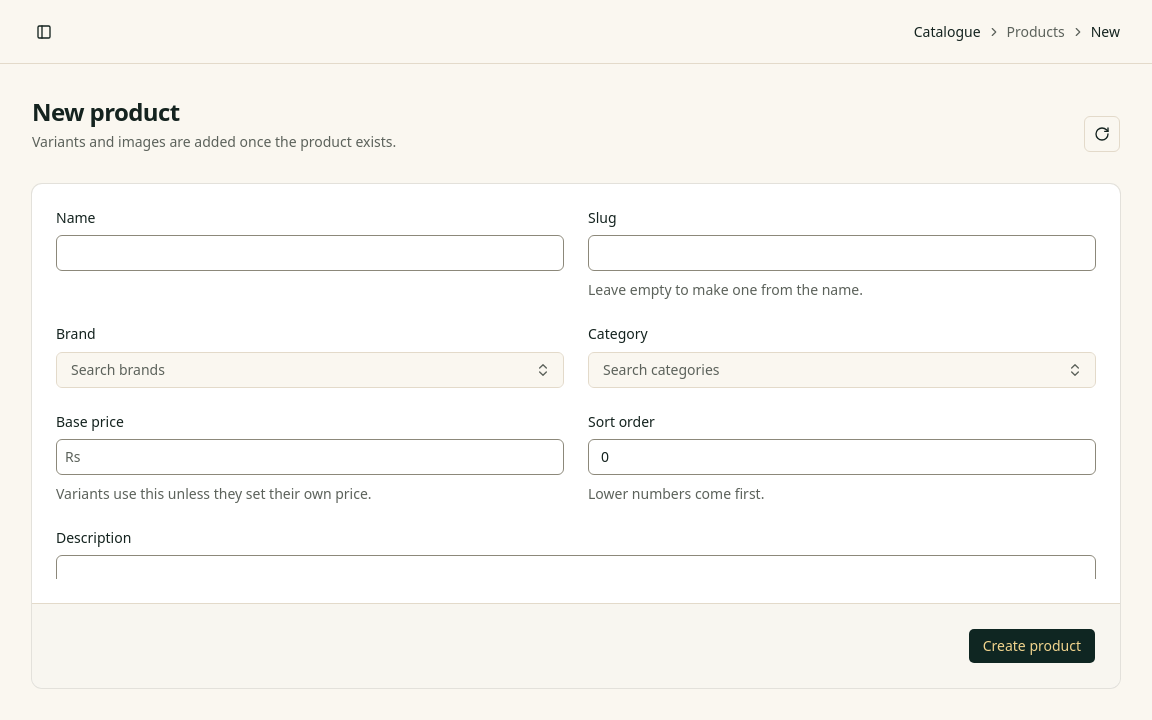
new product › searches brands as staff type and shows the chosen one
Click the dropdown labelled "brand": (118, 369) [56,352,564,388]
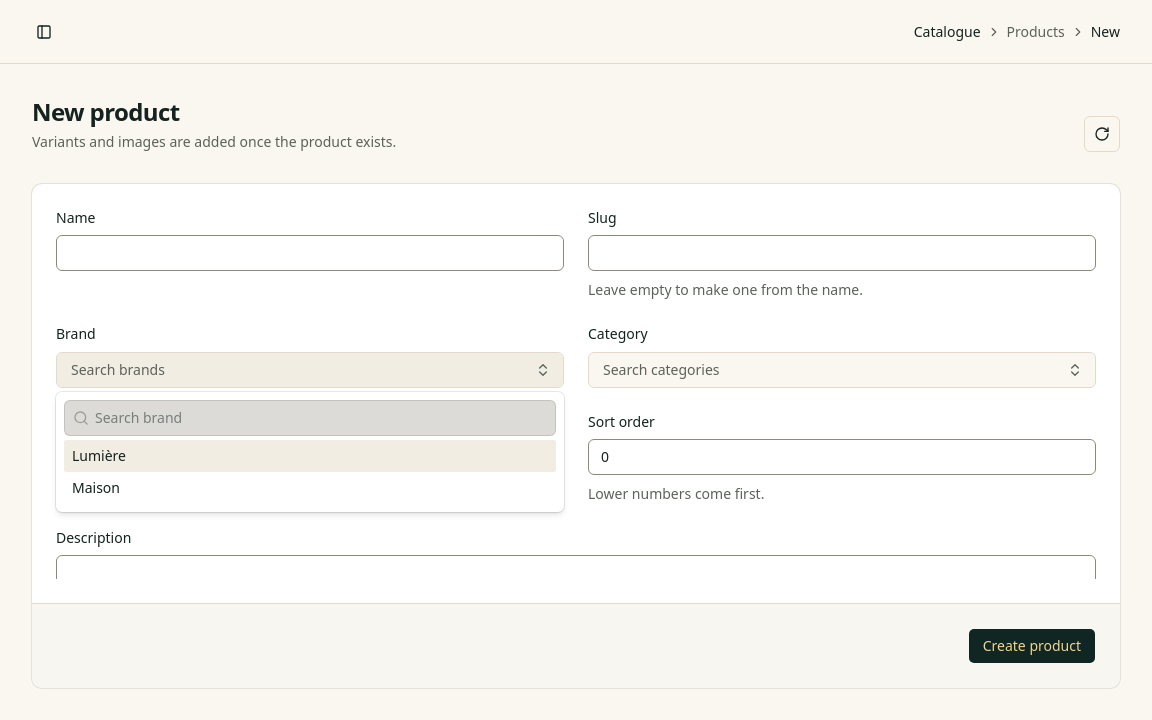
In the dropdown with placeholder "Search brand": (322, 418) [89,408,555,428], type "mai"
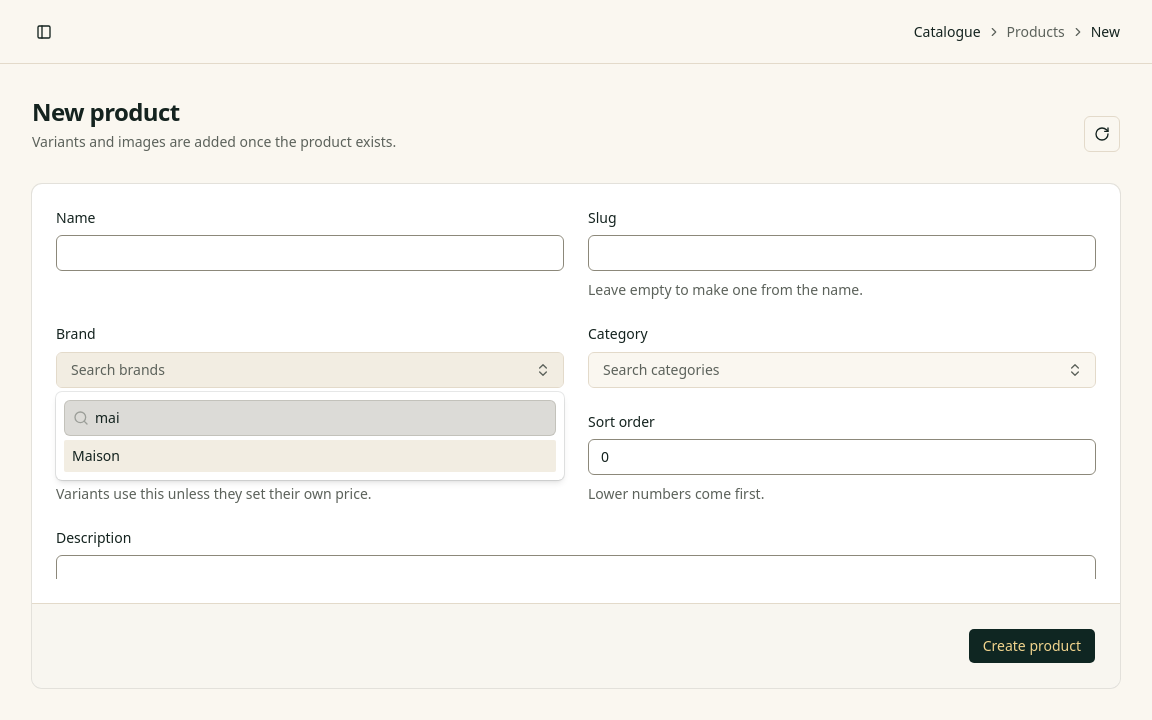
Now the option "Maison" is shown
Now the option "Lumière" is gone
Click the option "Maison": (96, 456) [64,440,556,472]
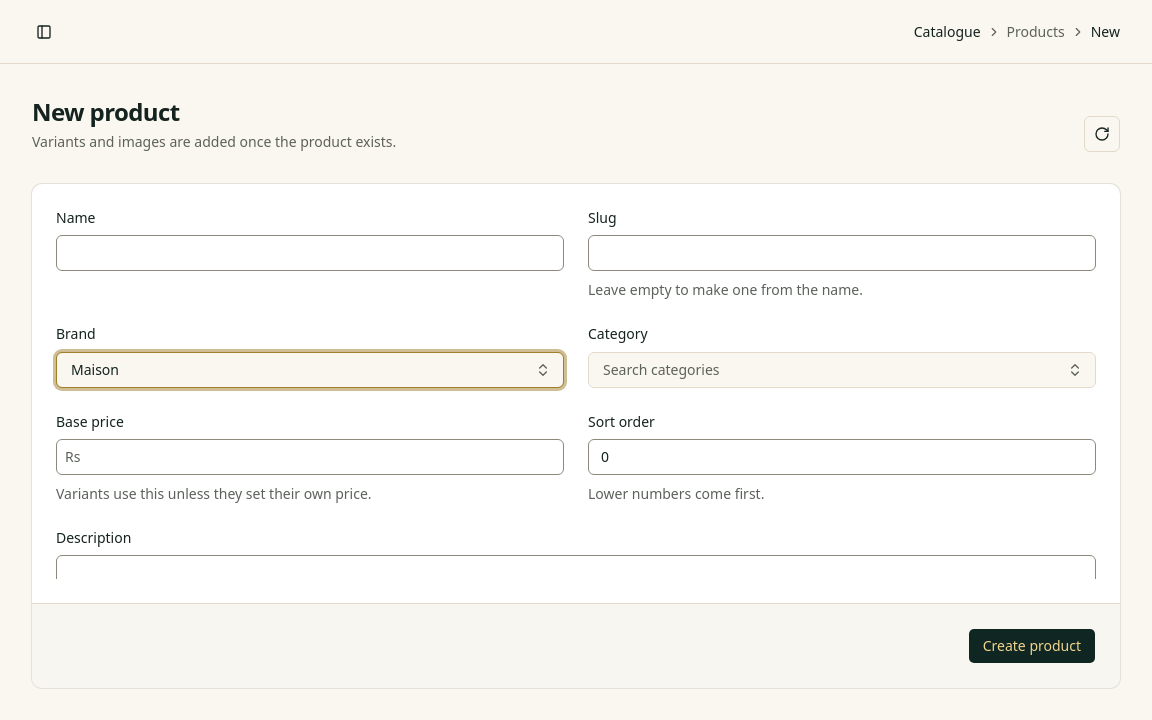
Now the dropdown named "Brand" reads "Maison"
Click the dropdown named "Brand": (95, 369) [56,352,564,388]
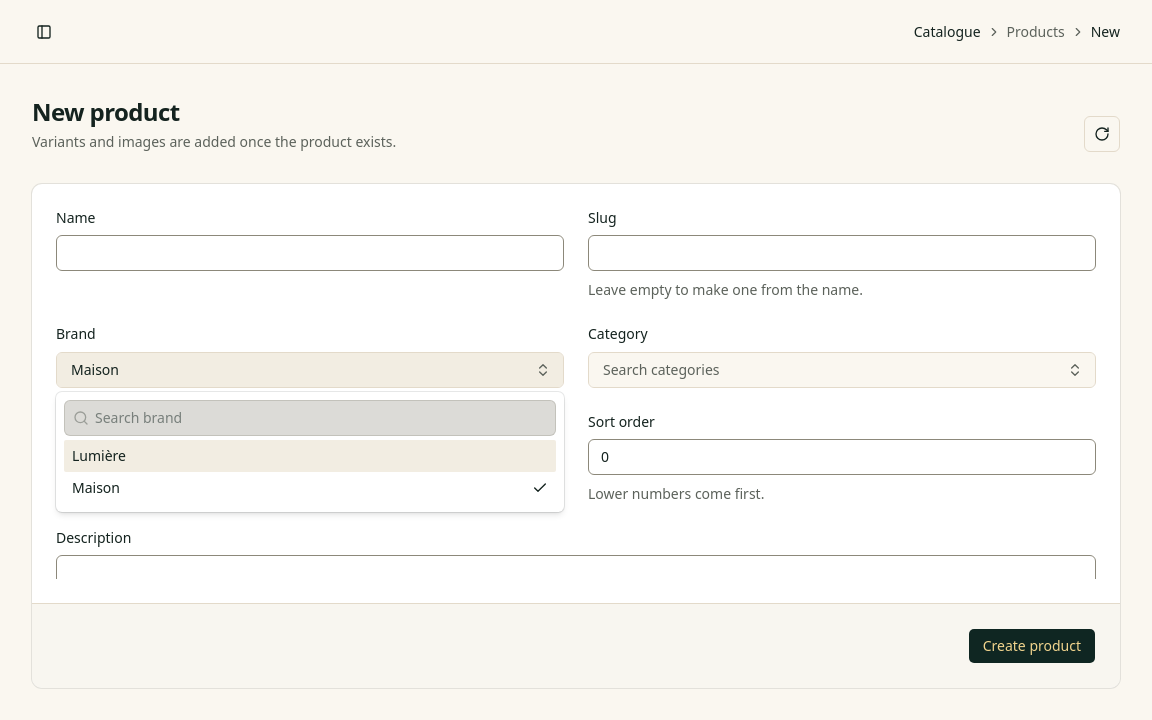
In the dropdown with placeholder "Search brand": (322, 418) [89,408,555,428], type "zzz"
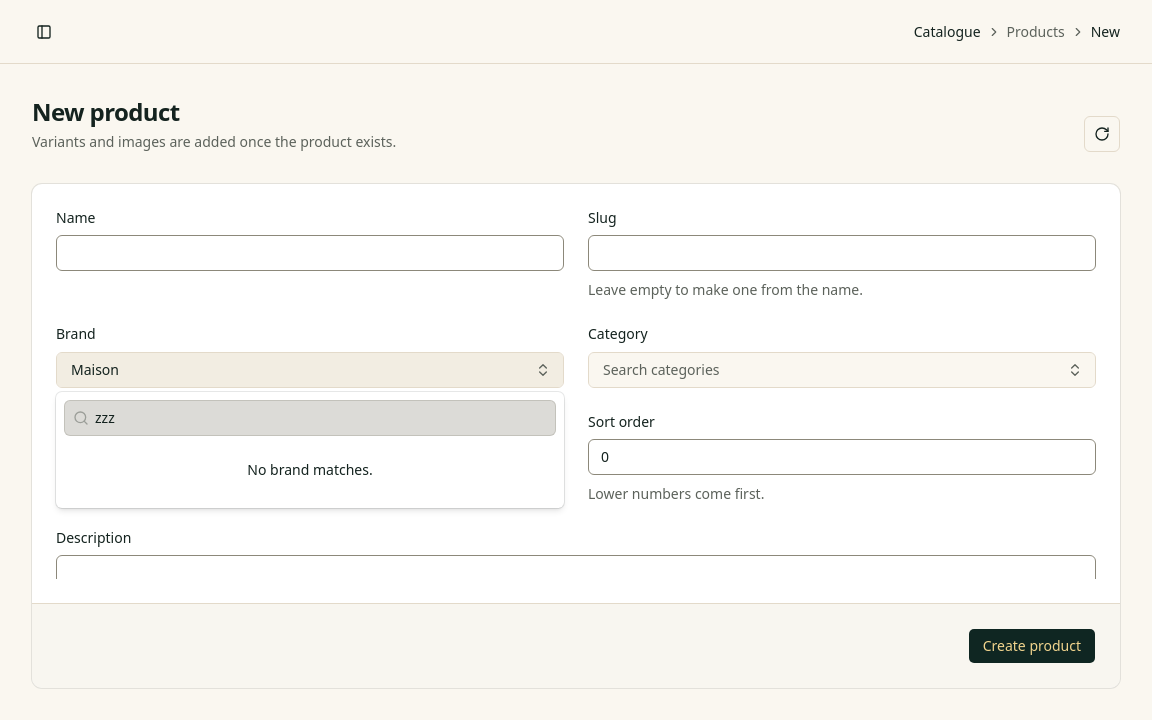
Now the text "No brand matches." is shown, box [247,460,373,479]
